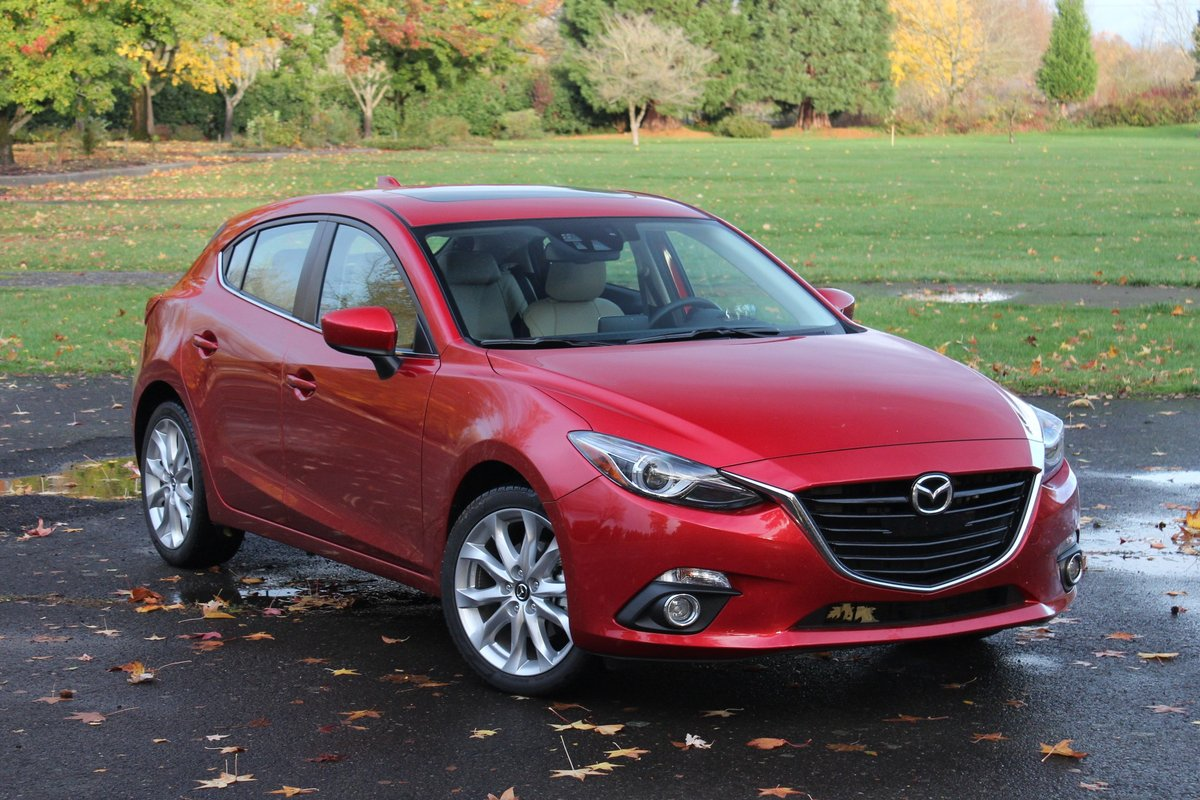Mazda3 Hatchback: (128, 178, 1087, 704)
